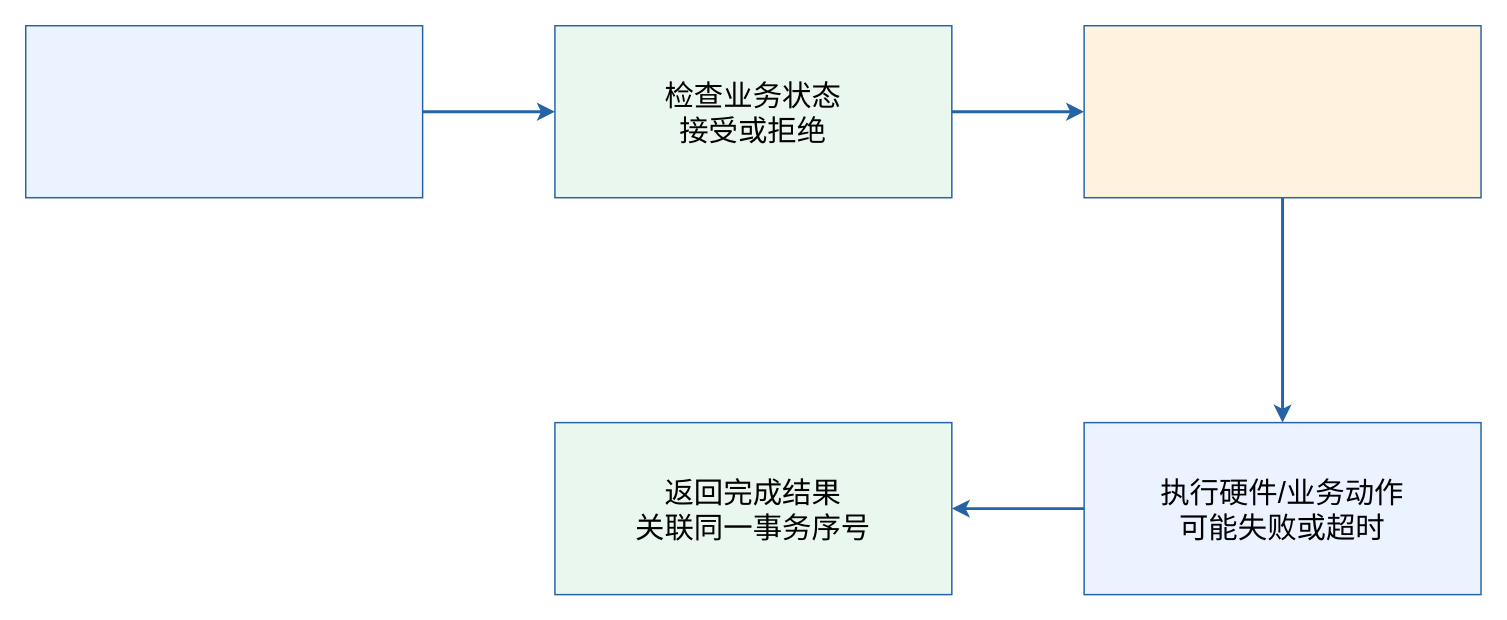
This 1507x620 diagram has some shape labels left out. The centre of each missing label's shape, as x and y in pixels:
"收到请求 校验帧与序号" goes at [223,111].
"返回接受确认 仅说明已受理" goes at [1282,111].
